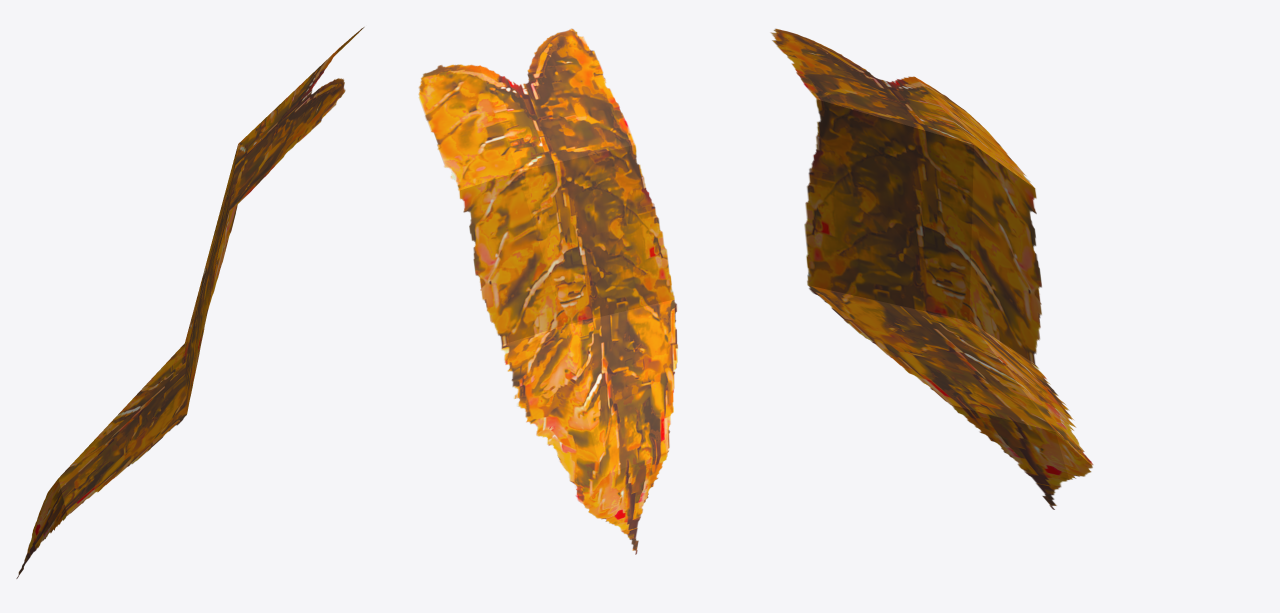
File: AlienPlant_1_PhLeaf_2.gltf
3 views of the same model, side by side, from view 1: azimuth 30°, elevation 25°; view 2: azimuth 150°, elevation 25°; view 3: azimuth 270°, elevation 25° (orthographic). The views are drawn at different scales.
Parts seen in each view (by area): view 1: AlienPlant_1_PhLeaf_2; view 2: AlienPlant_1_PhLeaf_2; view 3: AlienPlant_1_PhLeaf_2.
Part boxes in pixels (<box>): AlienPlant_1_PhLeaf_2: <box>16,27,364,578</box>; AlienPlant_1_PhLeaf_2: <box>418,28,678,554</box>; AlienPlant_1_PhLeaf_2: <box>770,28,1093,509</box>.
Bounding box in the file's own units: 0.9696 × 1.48 × 1.21.
1 material, 1 textured.
